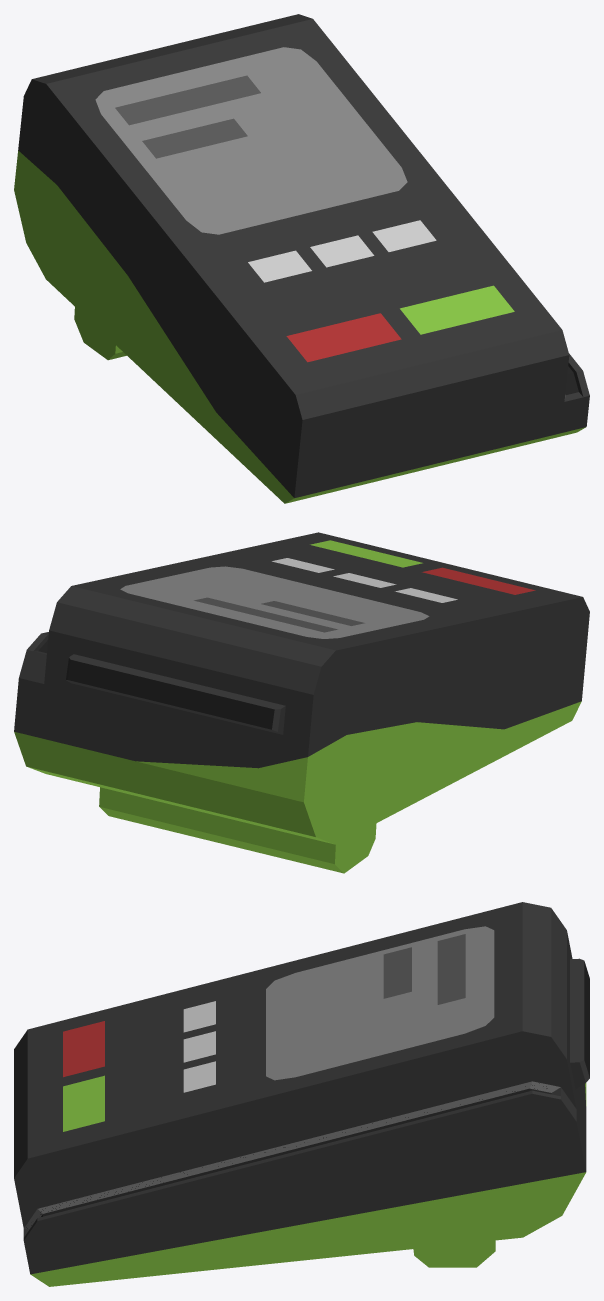
File: pos_terminal.fbx
3 views of the same model, one above another, from view 1: azimuth 30°, elevation 25°; view 2: azimuth 150°, elevation 25°; view 3: azimuth 270°, elevation 25° (orthographic).
Parts seen in each view (by area): view 1: pos_terminal; view 2: pos_terminal; view 3: pos_terminal.
Boxes of the visible parts, x1=… form: pos_terminal: x1=14, y1=14, x2=589, y2=503; pos_terminal: x1=14, y1=532, x2=589, y2=873; pos_terminal: x1=14, y1=902, x2=589, y2=1286.
Size of the model in its own units: 9.68 by 7.76 by 16.64.
